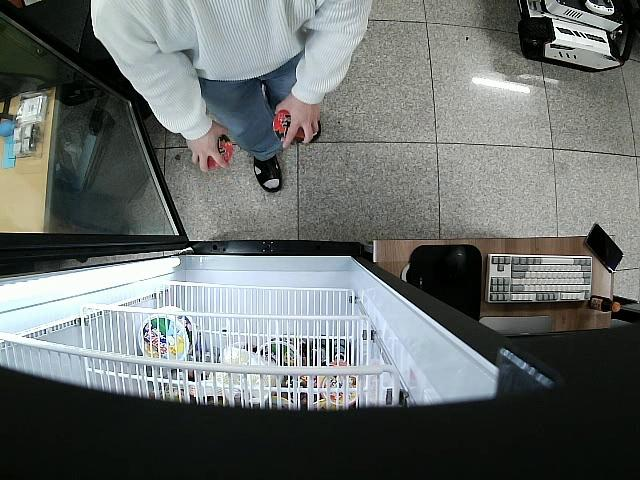00_hand: (275, 93, 321, 147), (185, 122, 231, 173)
02_shinRamen_S: (275, 109, 312, 144), (204, 133, 234, 170)
